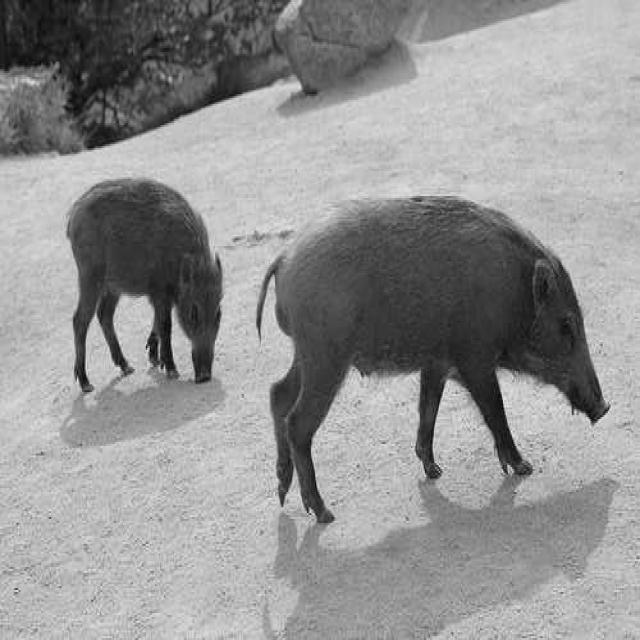boar: (255, 194, 607, 519), (65, 177, 220, 388)
